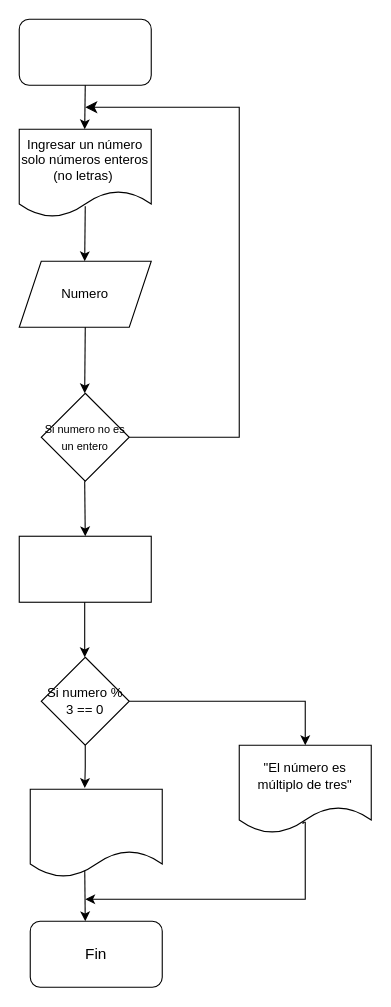
The diagram is 391 pixels wide and 1007 high, and some of its shapes have lost their labels. The shapes that lost their labels are listed below. From the top down, each one's box as (x1, y1, x2, y2) in pixels, then its label:
(18, 18, 151, 85): Inicio
(18, 535, 151, 602): Convertir numero a entero
(29, 788, 162, 877): "El número no es múltiplo de tres"
